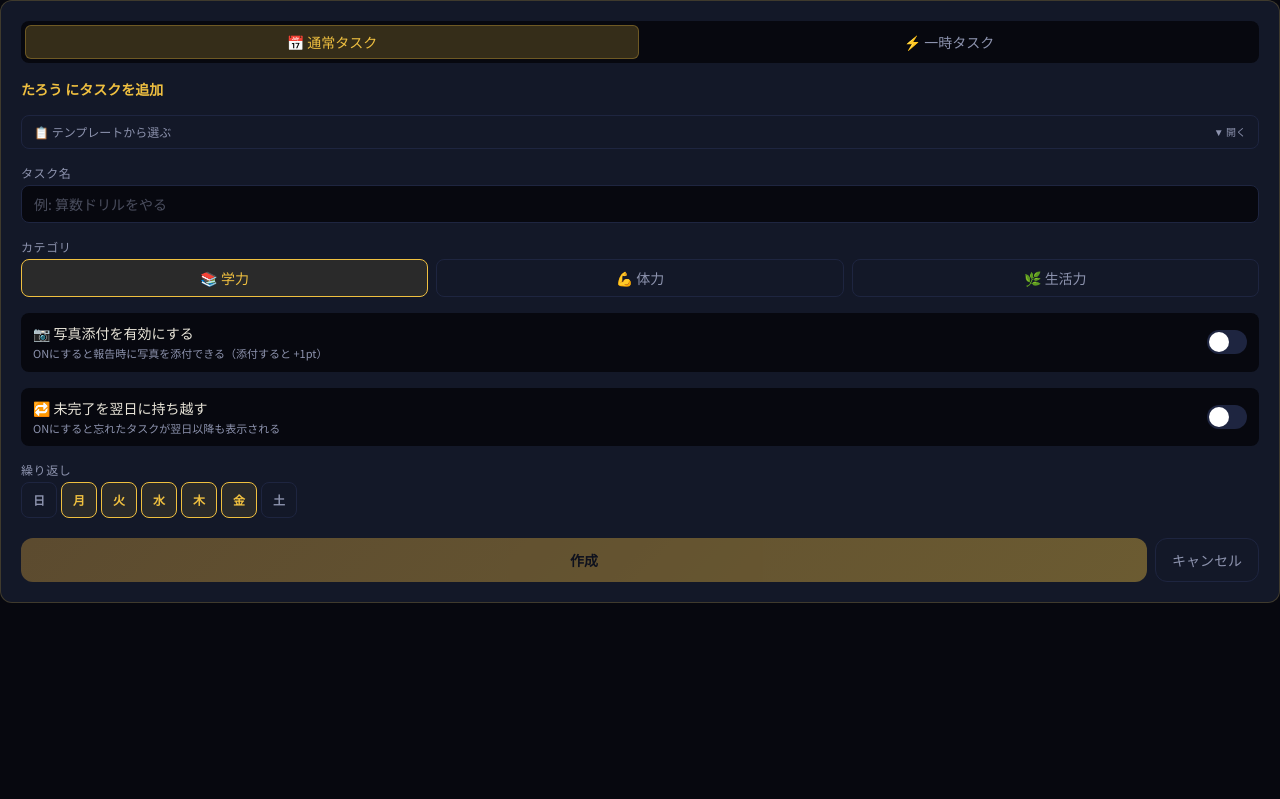
Scenario: TaskForm テンプレート開閉 › テンプレートトグルボタンを押すと一覧が表示される
Click the button "📋 テンプレートから選ぶ ▼ 開く".
click(103, 132)  # box [21,115,1259,149]
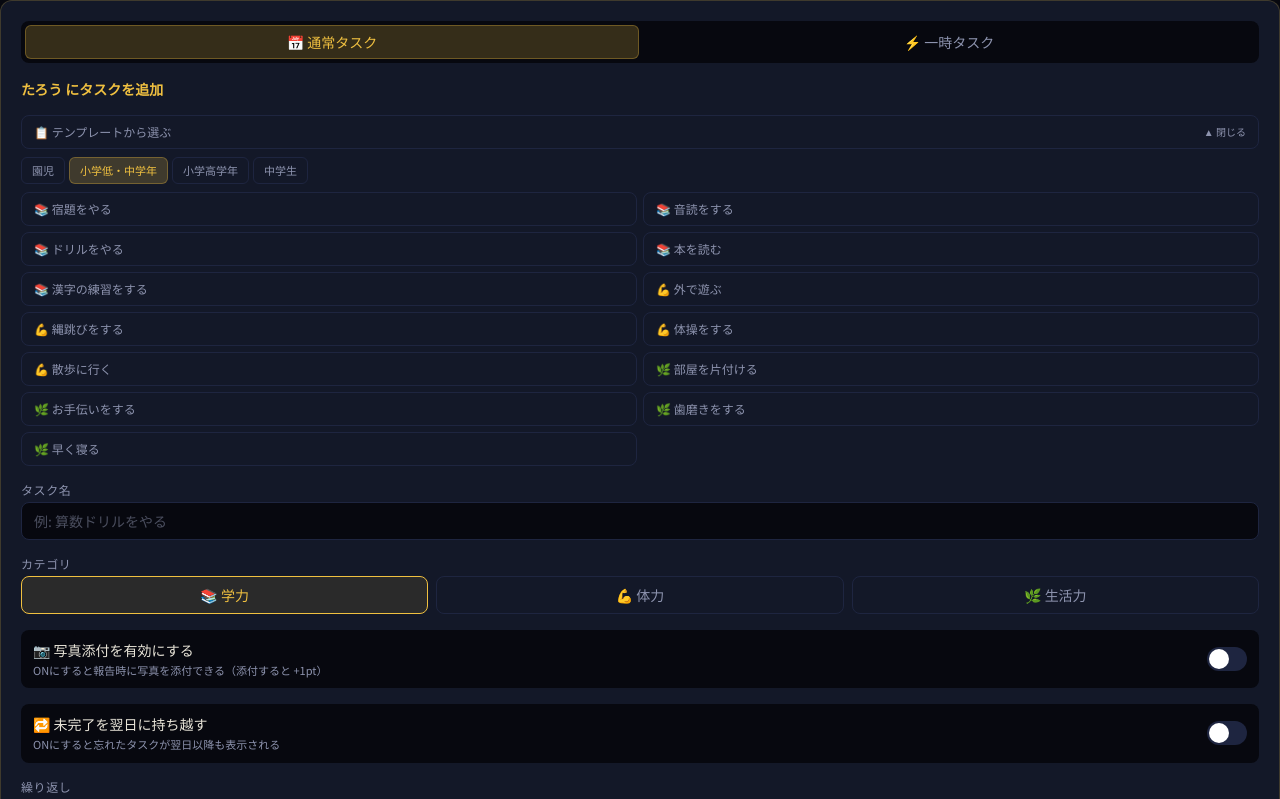
Check: the button "小学低・中学年" is shown, box [69,157,168,184]
